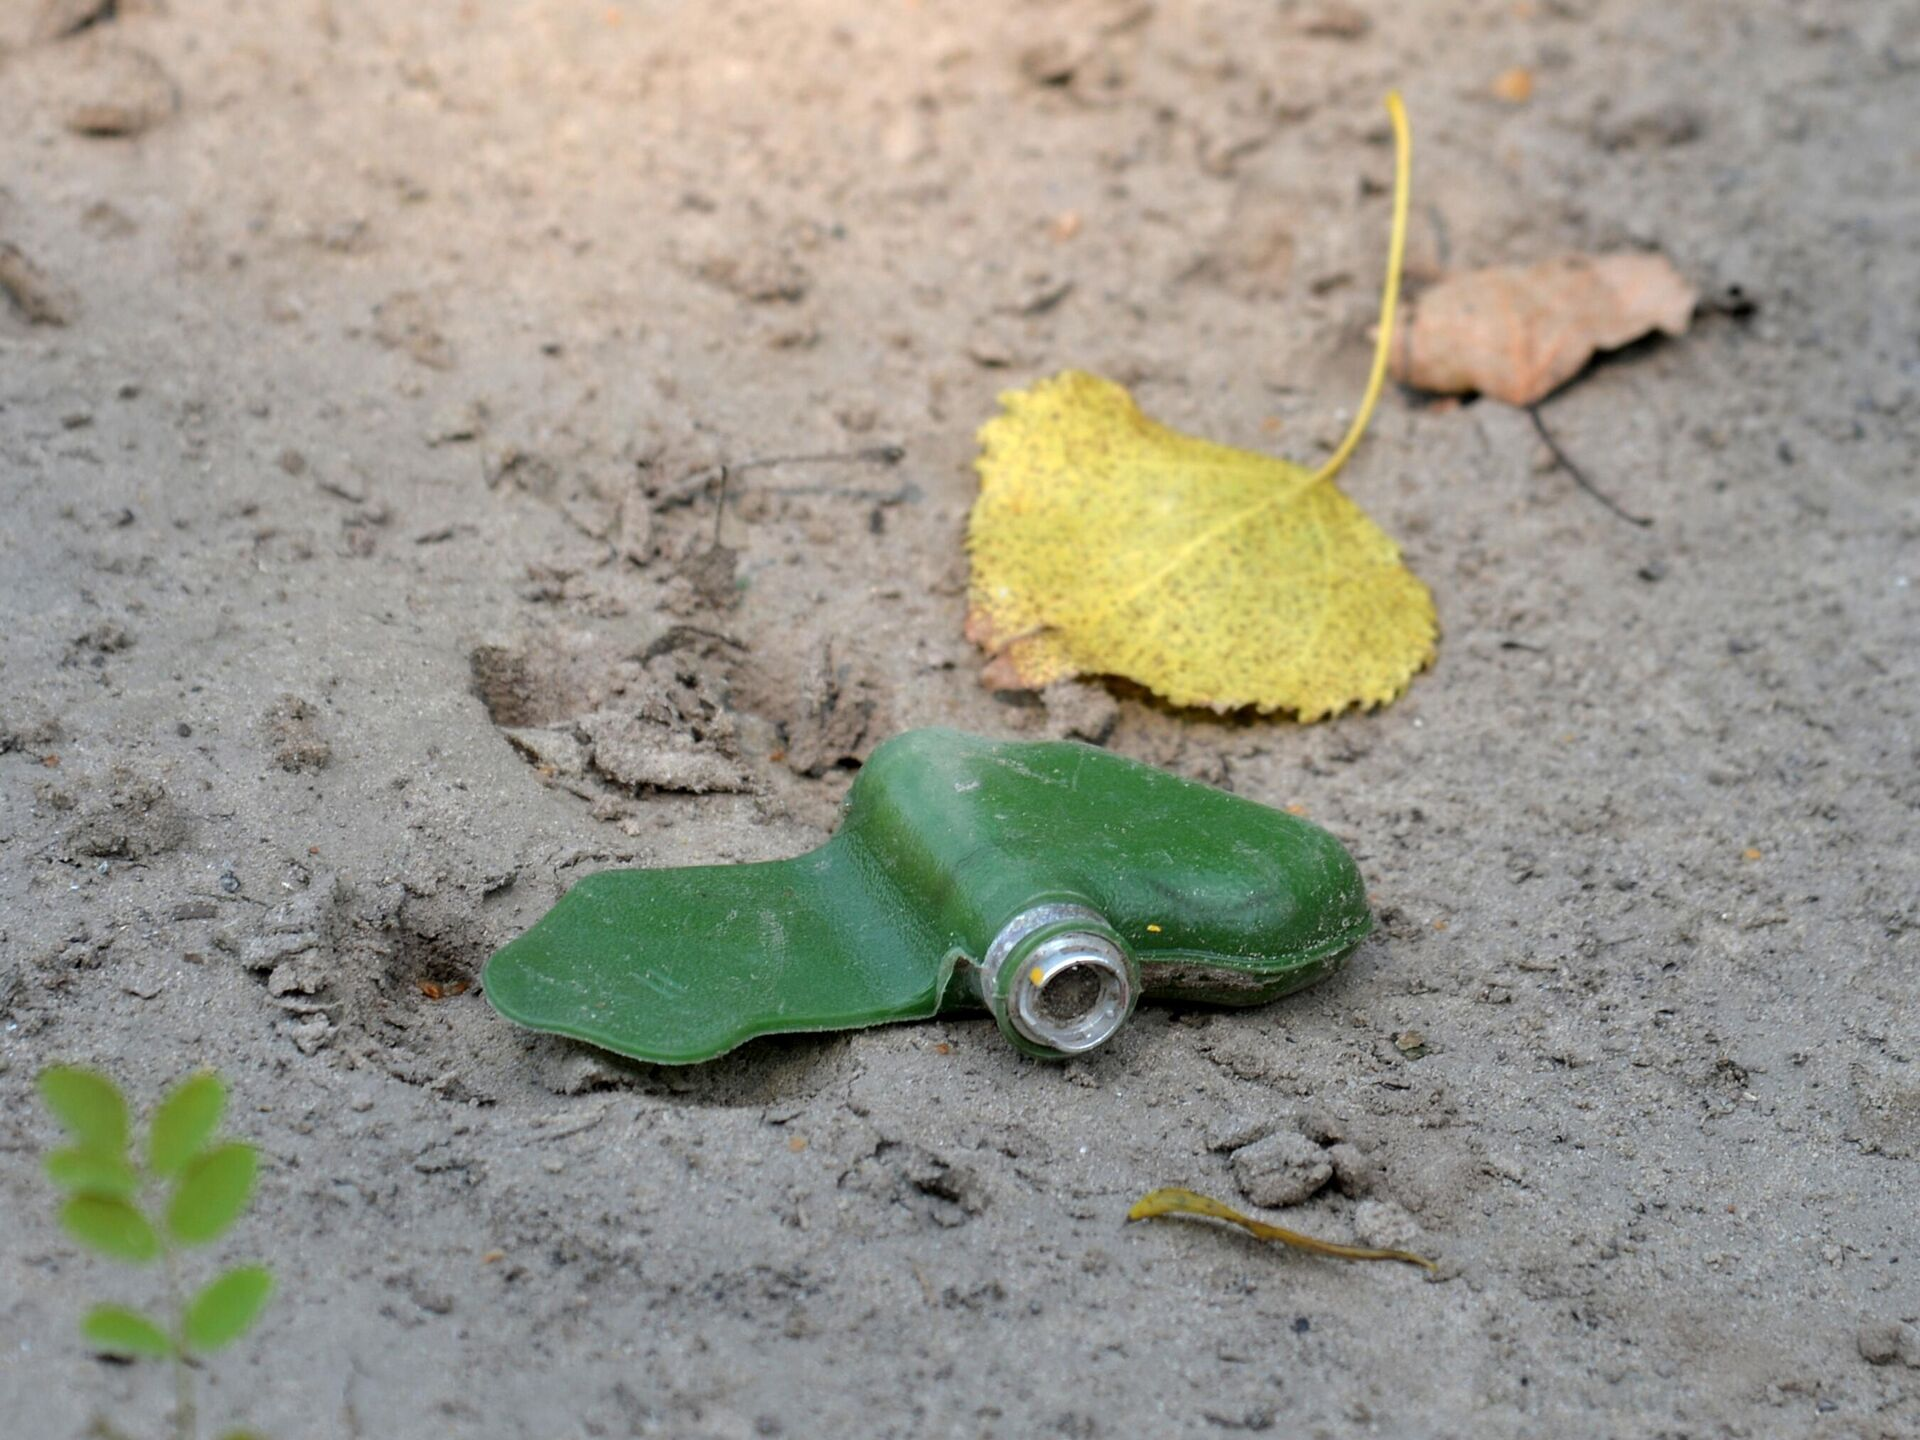butterfly: (472, 705, 1404, 1095)
